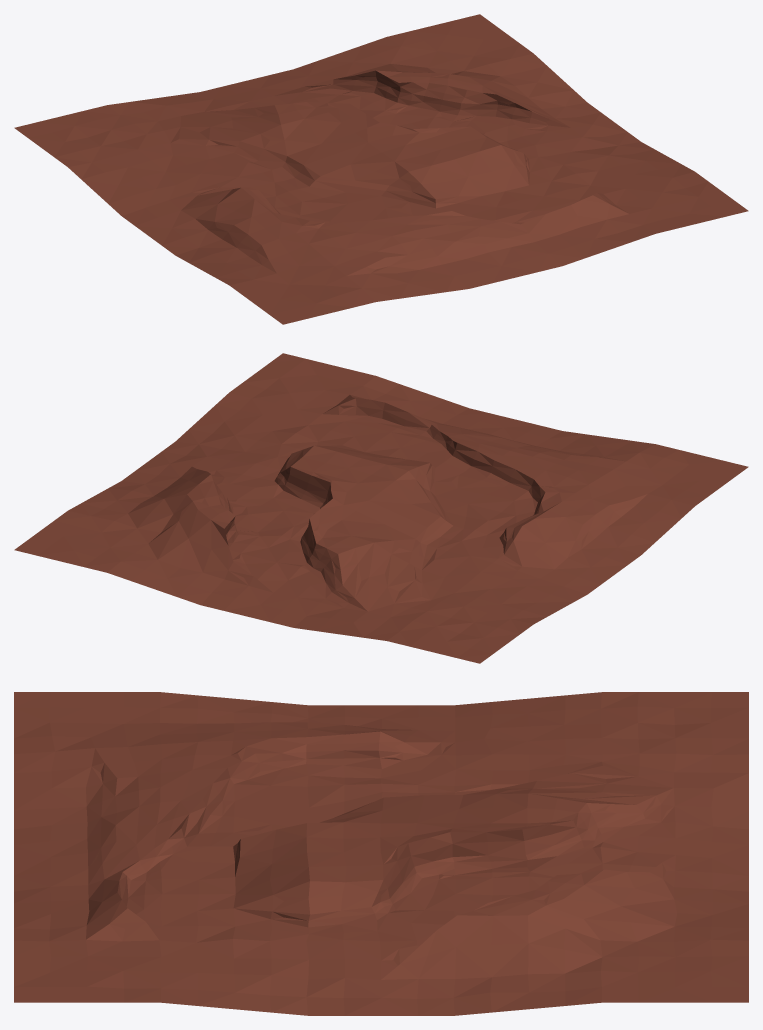
Rendered from Terrain_c_dry.FBX.
The picture shows the model from 3 angles, top to bottom: view 1: azimuth 30°, elevation 25°; view 2: azimuth 150°, elevation 25°; view 3: azimuth 270°, elevation 25°; orthographic projection. The views are drawn at different scales.
Visible parts, largest first — view 1: Terrain_c_dry; view 2: Terrain_c_dry; view 3: Terrain_c_dry.
Part boxes in pixels (x1=…): Terrain_c_dry: x1=14, y1=14, x2=748, y2=324; Terrain_c_dry: x1=14, y1=353, x2=748, y2=663; Terrain_c_dry: x1=14, y1=692, x2=748, y2=1015.
Bounding box in the file's own units: 100 × 6.73 × 100.
